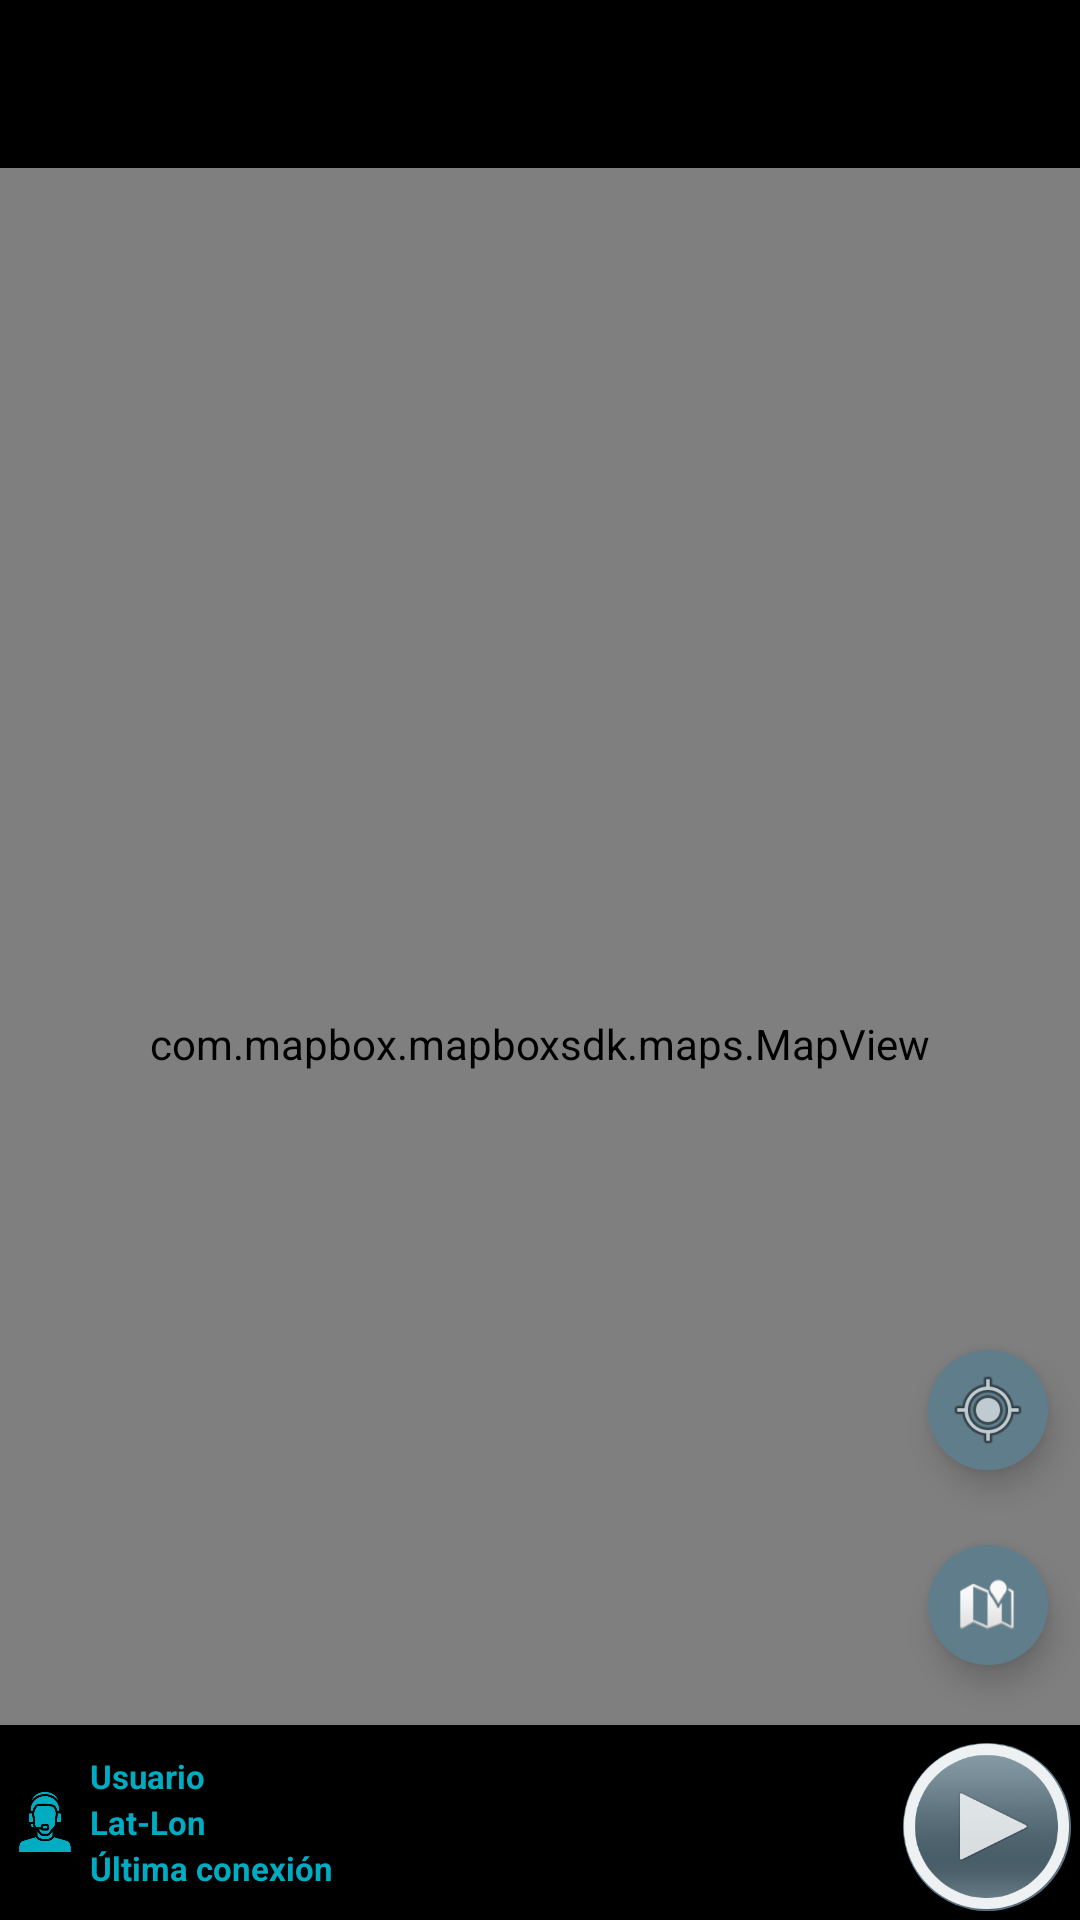

Locate icon controls on the screen. Image size 1080*1920, boxes as [left=x1, top=y1, right=x2, bottom=y2].
map: [left=928, top=1545, right=1048, bottom=1665]
mylocation: [left=928, top=1350, right=1048, bottom=1470]
play video: [left=903, top=1743, right=1071, bottom=1911]
user ptt: [left=19, top=1792, right=71, bottom=1852]
